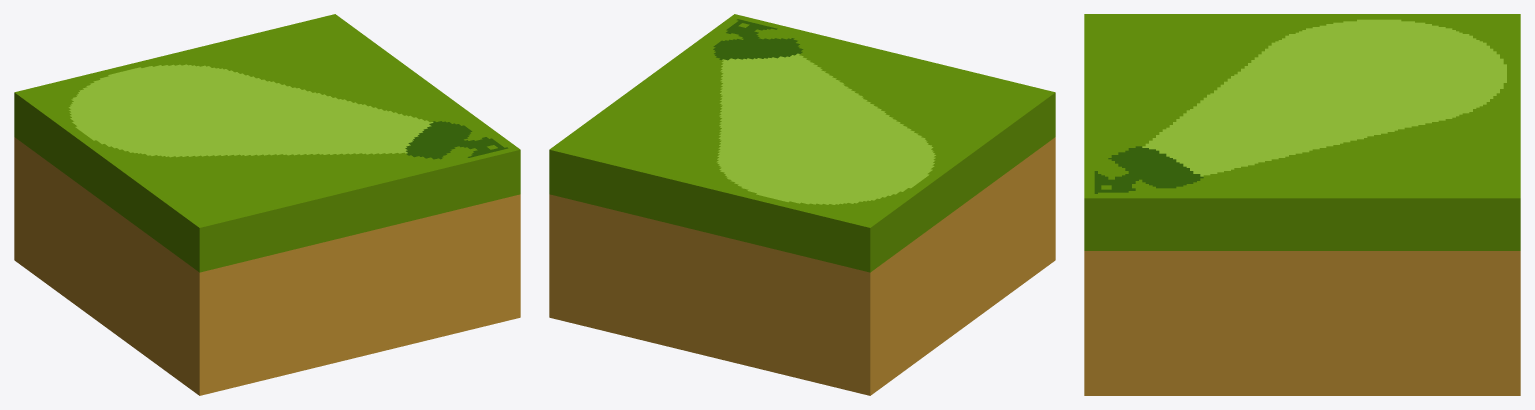
3 views of the same model, side by side, from view 1: azimuth 30°, elevation 25°; view 2: azimuth 150°, elevation 25°; view 3: azimuth 270°, elevation 25° (orthographic). The views are drawn at different scales.
Parts seen in each view (by area): view 1: 16N.001; view 2: 16N.001; view 3: 16N.001.
Boxes of the visible parts, x1,y1,x2,y2 form: 16N.001: [14, 14, 520, 395]; 16N.001: [549, 14, 1055, 395]; 16N.001: [1084, 14, 1520, 395].
Size of the model in its own units: 12.8 by 6.4 by 12.8.
Materials: 1 (1 with a texture image).
